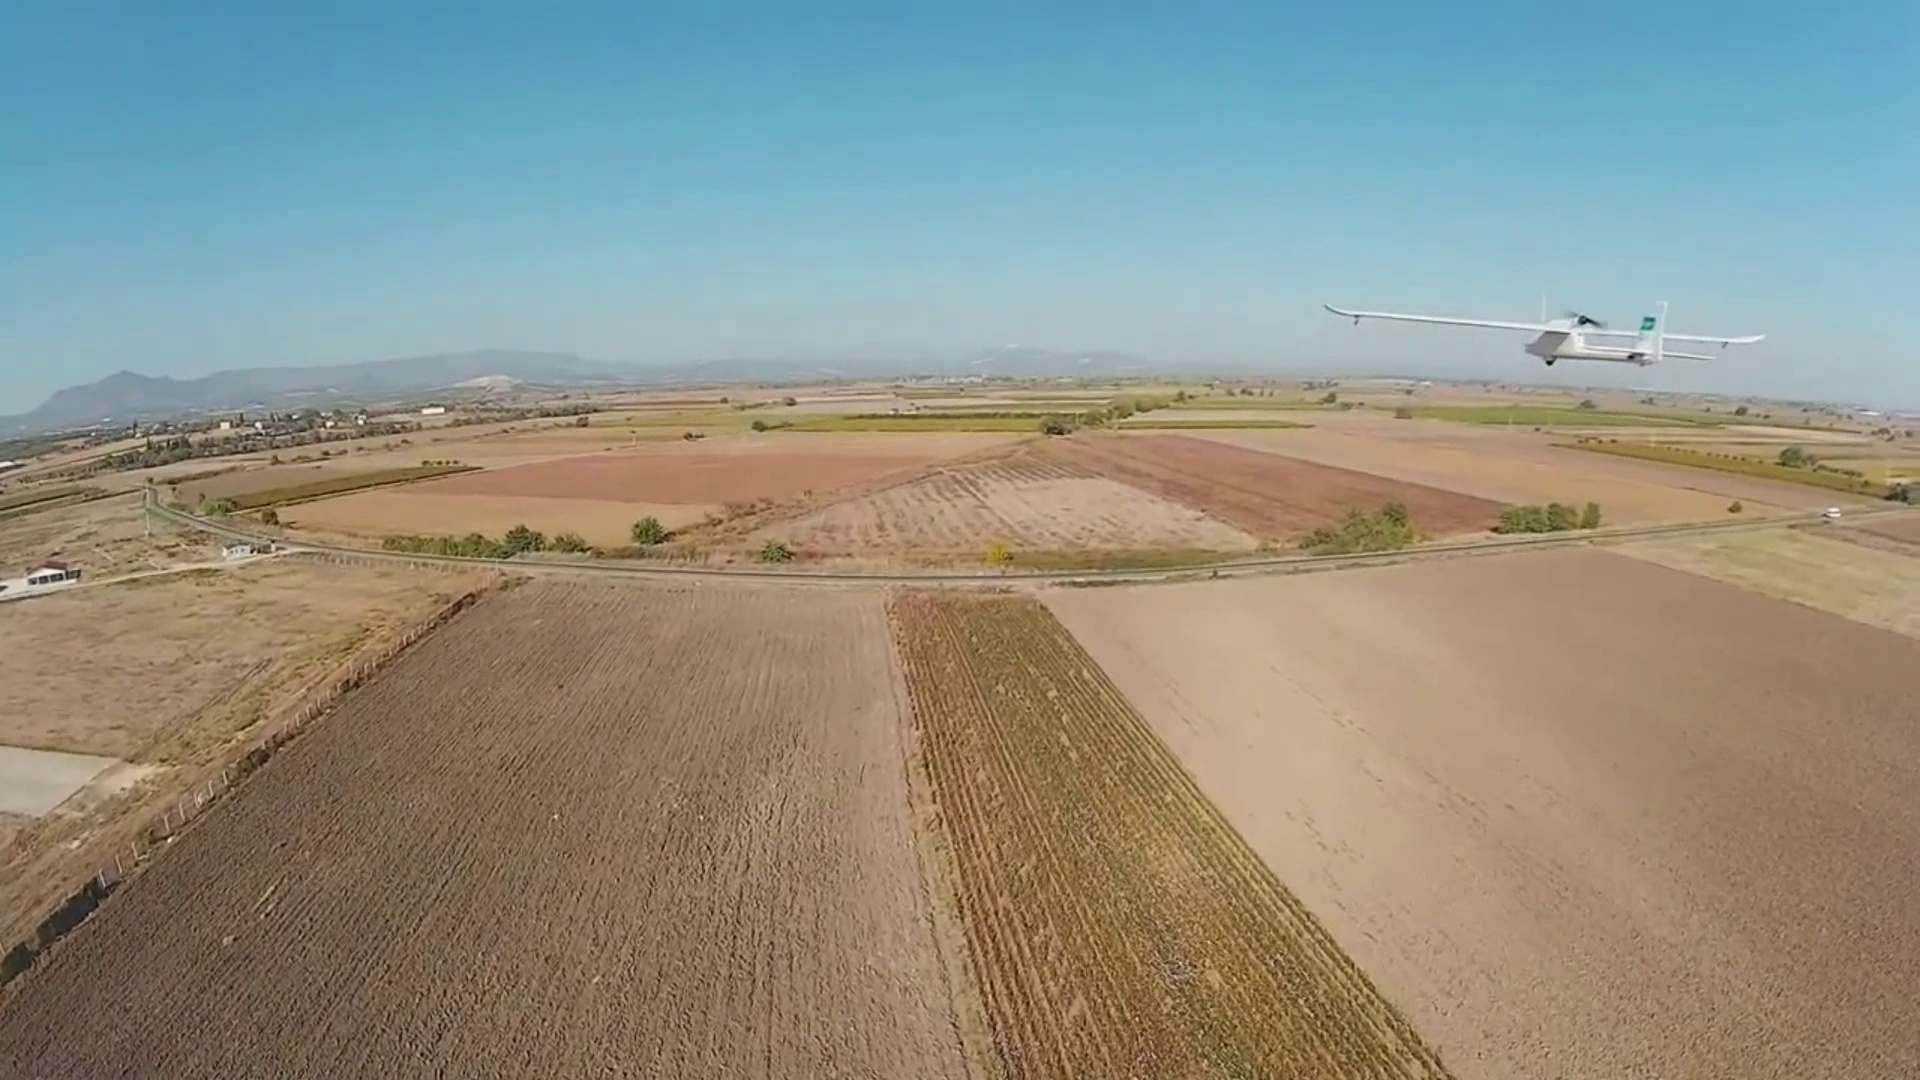airplane: (1320, 295, 1770, 367)
